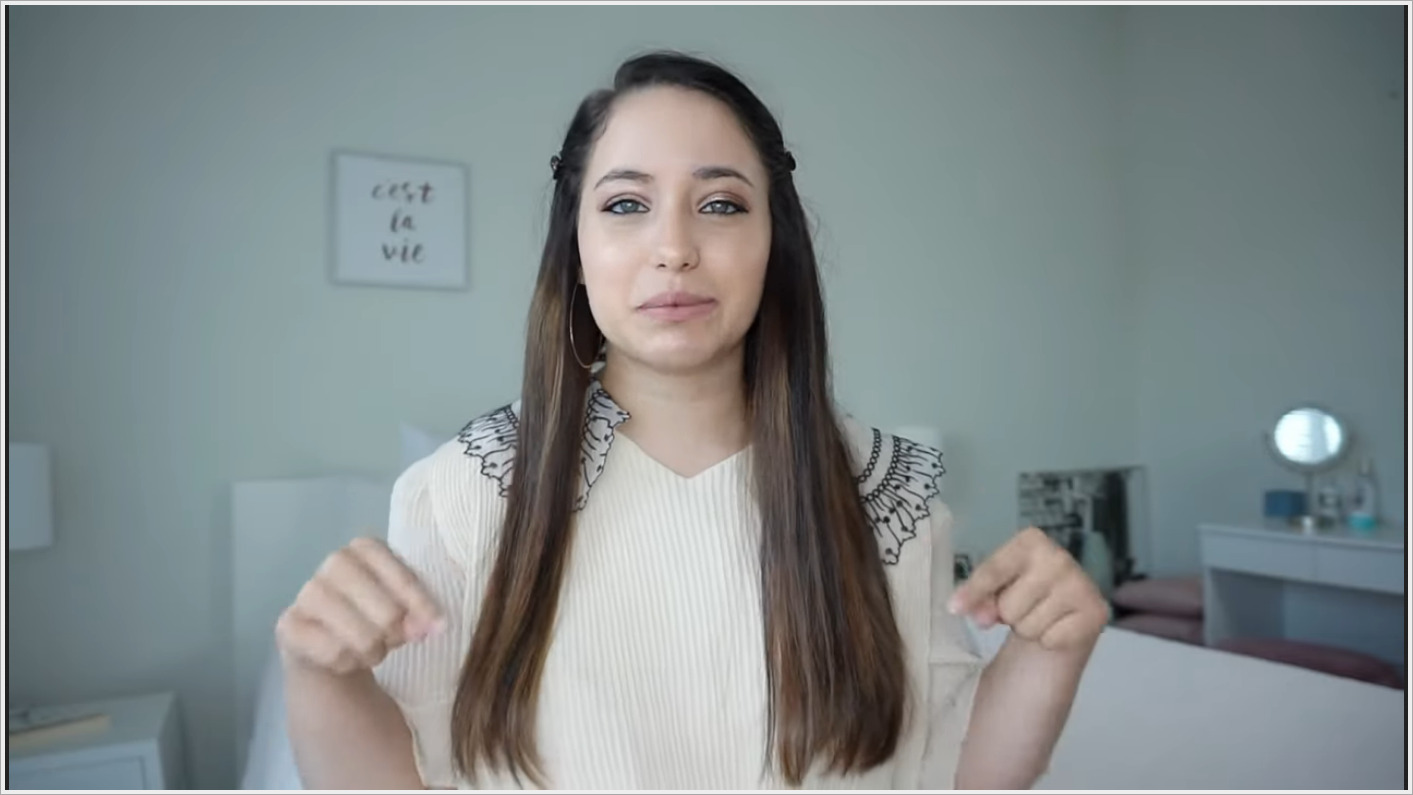hand: (272, 535, 458, 688), (946, 521, 1120, 664)
